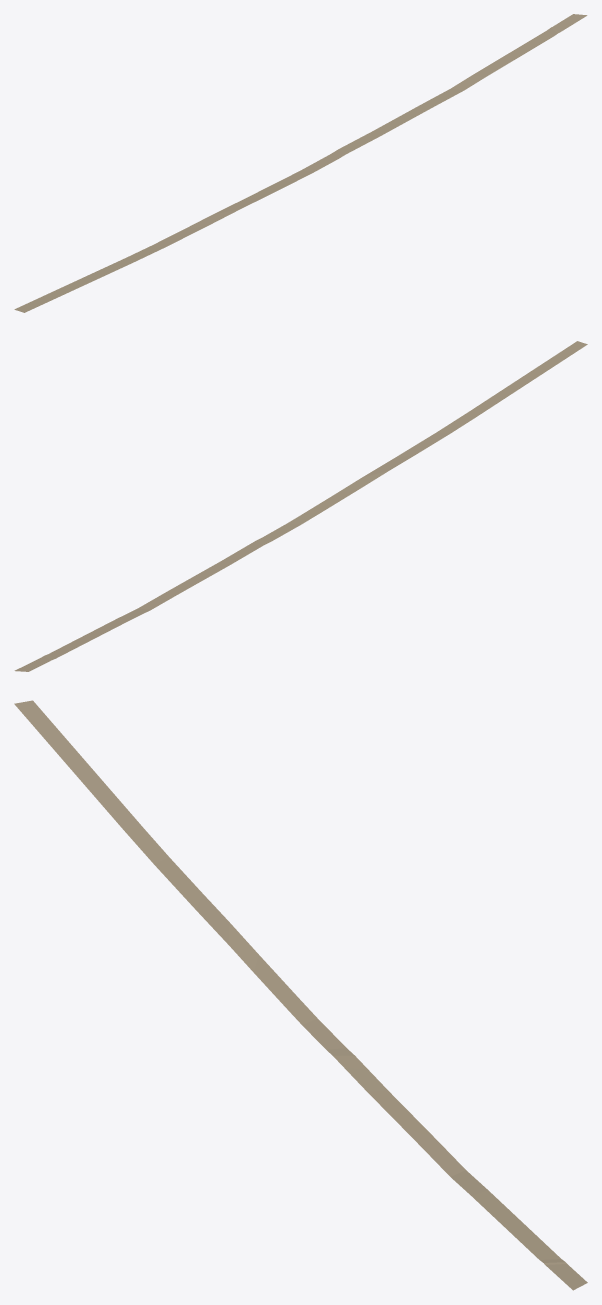
File: farm_3_9_track.glb
3 renders of one model, top to bottom at view 1: azimuth 30°, elevation 25°; view 2: azimuth 210°, elevation 25°; view 3: azimuth 270°, elevation 25°, orthographic. The views are drawn at different scales.
Parts seen in each view (by area): view 1: geometry_0; view 2: geometry_0; view 3: geometry_0.
Boxes of the visible parts, x1,y1,x2,y2 form: geometry_0: (14,14,587,312); geometry_0: (14,341,587,671); geometry_0: (14,700,587,1290).
Size of the model in its own units: 214 by 6.15 by 91.69.
